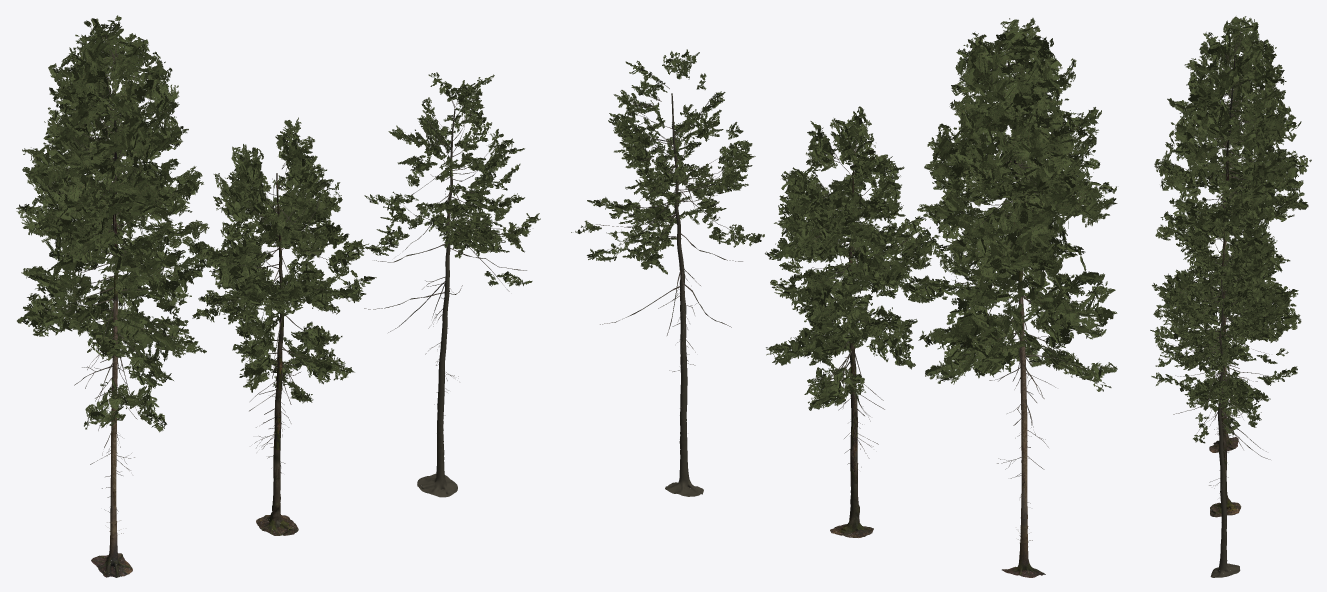
File: fir_tree_01.glb
3 views of the same model, side by side, from view 1: azimuth 30°, elevation 25°; view 2: azimuth 150°, elevation 25°; view 3: azimuth 270°, elevation 25° (orthographic). The views are drawn at different scales.
Visible parts, largest first — view 1: fir_tree_01_a_LOD0, fir_tree_01_b_LOD0, fir_tree_01_c_LOD0; view 2: fir_tree_01_a_LOD0, fir_tree_01_b_LOD0, fir_tree_01_c_LOD0; view 3: fir_tree_01_a_LOD0, fir_tree_01_b_LOD0, fir_tree_01_c_LOD0.
Boxes of the visible parts, bbox=[...] form: fir_tree_01_a_LOD0: bbox=[16, 15, 211, 577]; fir_tree_01_b_LOD0: bbox=[188, 117, 376, 535]; fir_tree_01_c_LOD0: bbox=[364, 72, 540, 497]; fir_tree_01_a_LOD0: bbox=[917, 18, 1117, 577]; fir_tree_01_b_LOD0: bbox=[765, 106, 950, 537]; fir_tree_01_c_LOD0: bbox=[571, 49, 764, 496]; fir_tree_01_a_LOD0: bbox=[1153, 16, 1311, 452]; fir_tree_01_b_LOD0: bbox=[1152, 197, 1301, 517]; fir_tree_01_c_LOD0: bbox=[1150, 247, 1297, 577].
Bounding box in the file's own units: 18.82 × 18.95 × 6.54.
6 materials, 6 textured.
